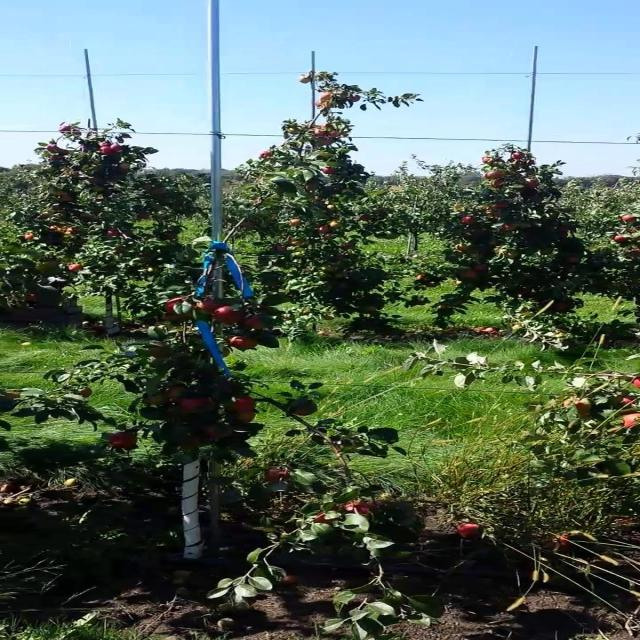apple: (212, 306, 246, 324), (107, 432, 137, 448), (342, 500, 372, 516), (209, 304, 235, 322), (194, 296, 223, 312), (177, 396, 207, 411), (455, 522, 481, 539), (263, 468, 291, 483), (227, 335, 257, 349), (241, 314, 267, 330), (203, 424, 232, 438), (562, 399, 590, 413), (162, 297, 186, 313), (230, 396, 253, 412), (162, 385, 186, 399), (148, 343, 170, 357), (233, 409, 254, 423), (620, 412, 638, 428), (230, 402, 253, 414), (180, 435, 202, 447), (290, 406, 314, 416), (312, 511, 332, 523), (144, 394, 167, 404), (2, 391, 21, 401), (617, 395, 635, 405), (77, 387, 91, 397), (3, 392, 20, 399), (632, 376, 639, 388)
